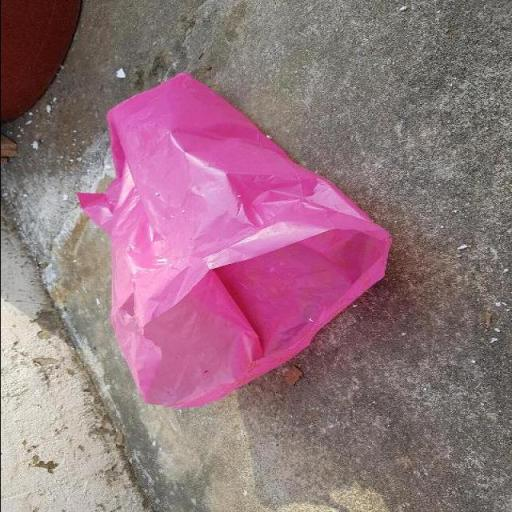plastic-bag: (70, 70, 393, 408)
